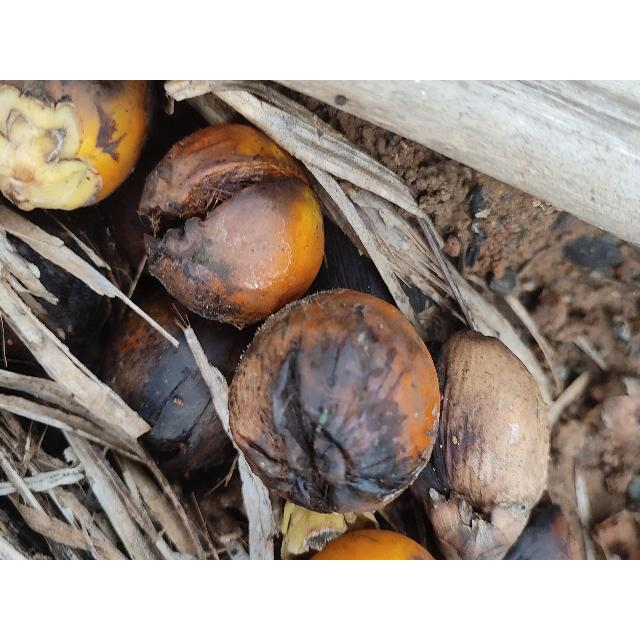damaged: (246, 291, 427, 514), (138, 124, 318, 323), (420, 332, 552, 556), (99, 292, 248, 480), (0, 80, 150, 212), (3, 213, 117, 349), (0, 361, 80, 469), (101, 182, 152, 290), (0, 317, 60, 378)
